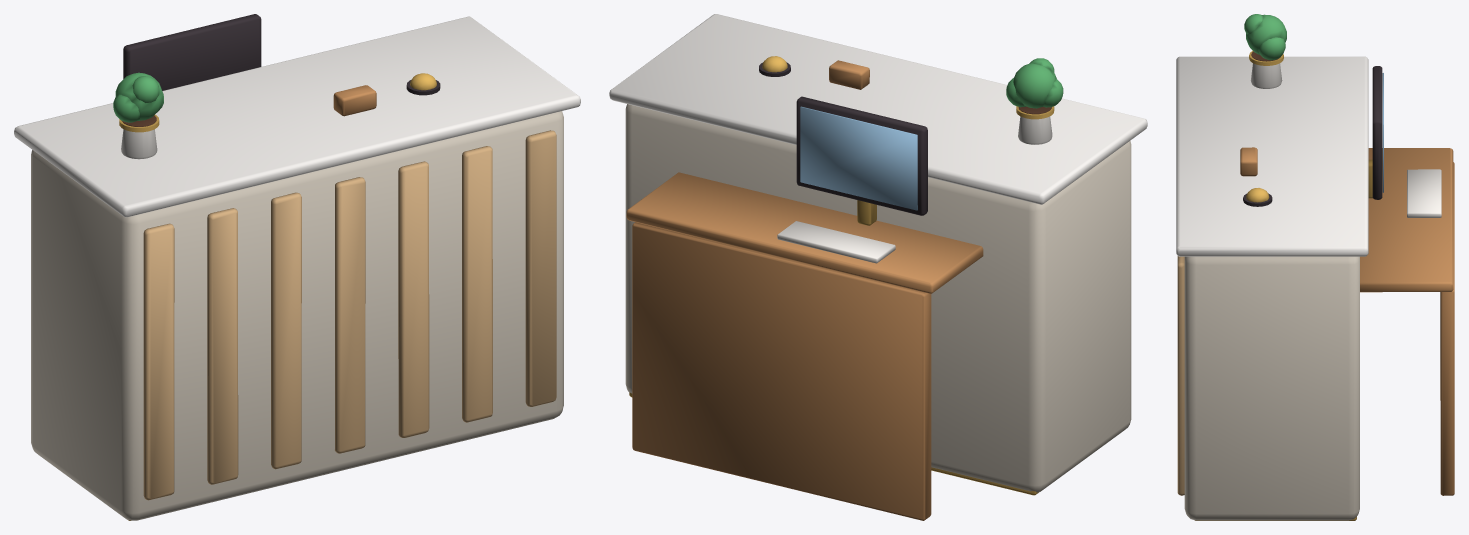
The model's file is reception-desk-wood.glb.
The picture shows the model from 3 angles, left to right: view 1: azimuth 30°, elevation 25°; view 2: azimuth 150°, elevation 25°; view 3: azimuth 270°, elevation 25°; orthographic projection. The views are drawn at different scales.
Parts seen in each view (by area): view 1: reception-desk-wood; view 2: reception-desk-wood; view 3: reception-desk-wood.
Part boxes in pixels (x1,y1,x2,y2): reception-desk-wood: (14,14,580,520); reception-desk-wood: (609,14,1147,520); reception-desk-wood: (1176,14,1454,520).
Size of the model in its own units: 1.56 by 1.32 by 0.9536.
